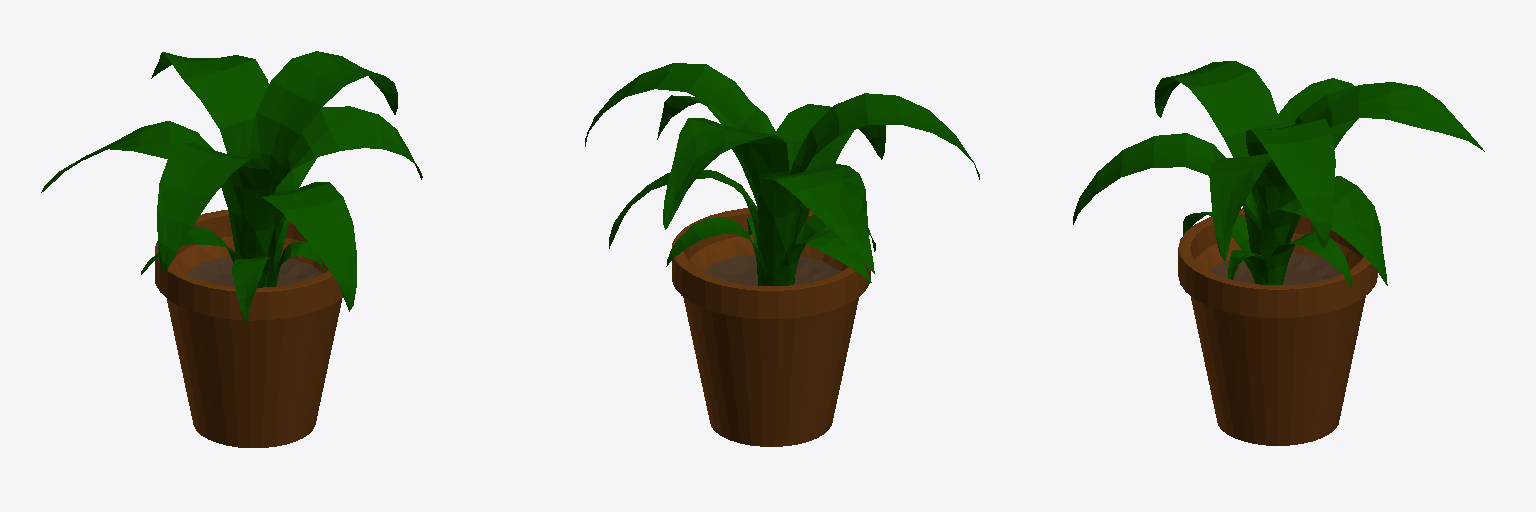
The model's file is Cay.obj.
The picture shows the model from 3 angles: view 1: azimuth 30°, elevation 25°; view 2: azimuth 150°, elevation 25°; view 3: azimuth 270°, elevation 25°; orthographic projection.
Parts seen in each view (by area): view 1: leaf_Plane.010, maceta_Cylinder; view 2: leaf_Plane.010, maceta_Cylinder; view 3: leaf_Plane.010, maceta_Cylinder.
Part boxes in pixels (x1,y1,x2,y2): leaf_Plane.010: (41,51,422,322); maceta_Cylinder: (155,210,343,447); leaf_Plane.010: (585,63,979,285); maceta_Cylinder: (672,208,870,446); leaf_Plane.010: (1073,61,1484,287); maceta_Cylinder: (1178,208,1377,445).
Size of the model in its own units: 0.5866 by 0.5777 by 0.6523.